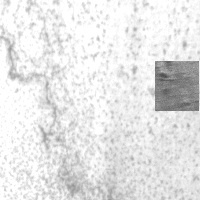pitted_surface: (15, 1, 197, 196)
rolled-in_scale: (155, 61, 199, 111)
